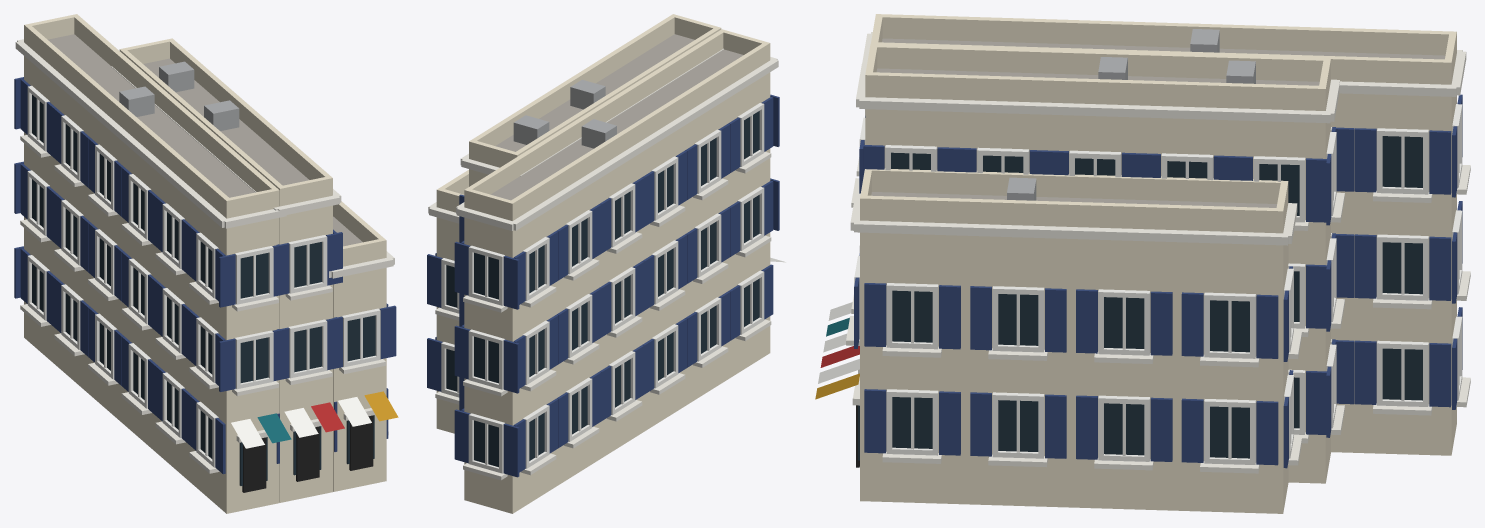
The picture shows the model from 3 angles, left to right: view 1: azimuth 30°, elevation 25°; view 2: azimuth 150°, elevation 25°; view 3: azimuth 270°, elevation 25°; orthographic projection. The views are drawn at different scales.
Parts seen in each view (by area): view 1: b6045; view 2: b6045; view 3: b6045.
Boxes of the visible parts, x1=… form: b6045: x1=14, y1=14, x2=398, y2=513; b6045: x1=427, y1=14, x2=785, y2=513; b6045: x1=815, y1=14, x2=1470, y2=513.
Bounding box in the file's own units: 3091 × 4858 × 7267.
